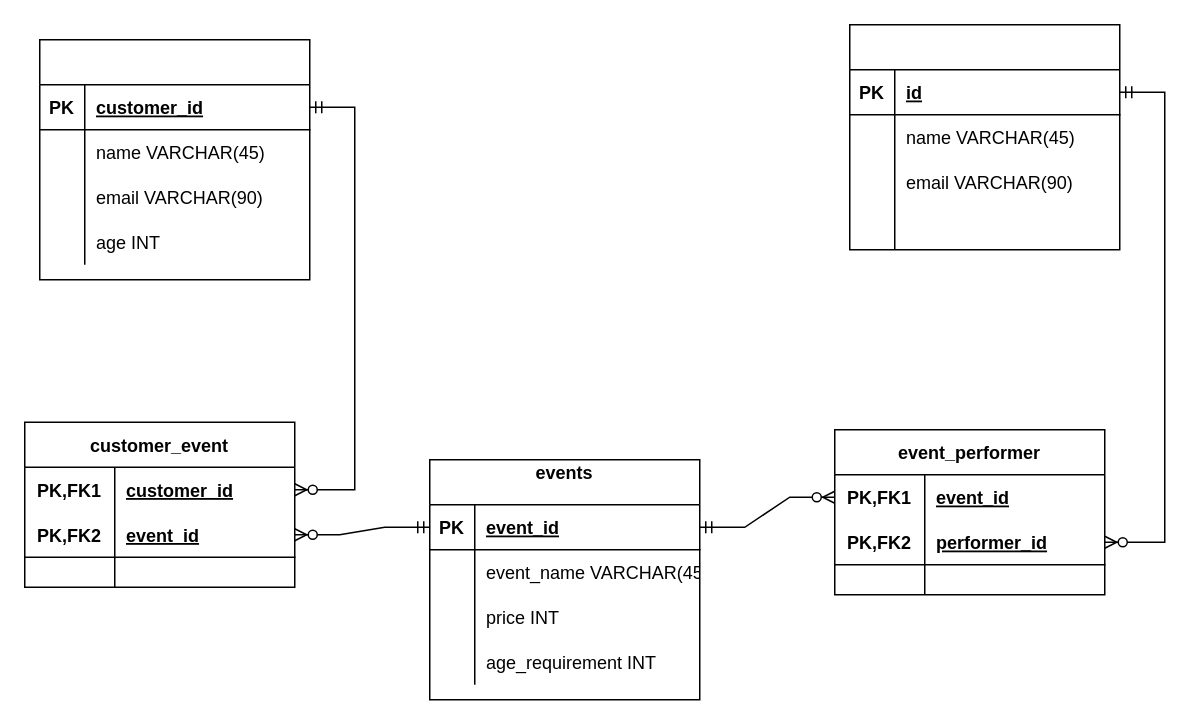
The diagram is 1190 pixels wide and 725 high, and some of its shapes have lost their labels. The shapes that lost their labels are listed below. From the top down, each one's box as (x1, y1, x2, y2) in pixels, then its label:
(848, 23, 1120, 250): performers
(38, 38, 310, 280): customers
